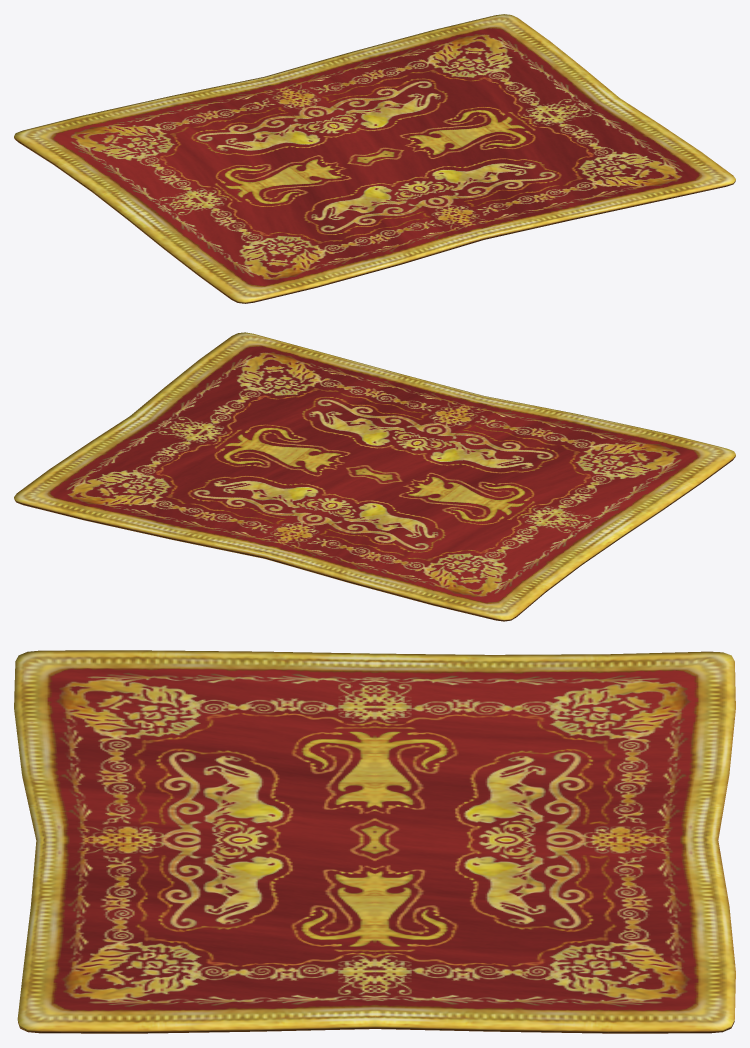
Rendered from EmperorCarpet_HD.fbx.
3 views of the same model, one above another, from view 1: azimuth 30°, elevation 25°; view 2: azimuth 150°, elevation 25°; view 3: azimuth 270°, elevation 25° (orthographic). The views are drawn at different scales.
Visible parts, largest first — view 1: EmperorCarpet; view 2: EmperorCarpet; view 3: EmperorCarpet.
Boxes of the visible parts, x1,y1,x2,y2 form: EmperorCarpet: (14, 14, 735, 303); EmperorCarpet: (14, 332, 735, 621); EmperorCarpet: (14, 650, 735, 1033).
Size of the model in its own units: 2.31 by 0.0136 by 1.86.
